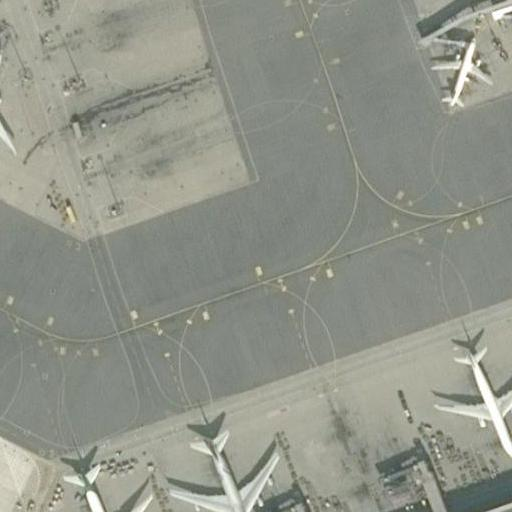Aircraft: (162, 417, 294, 512), (425, 337, 512, 456), (425, 27, 499, 119), (32, 457, 155, 512), (0, 39, 20, 180)
